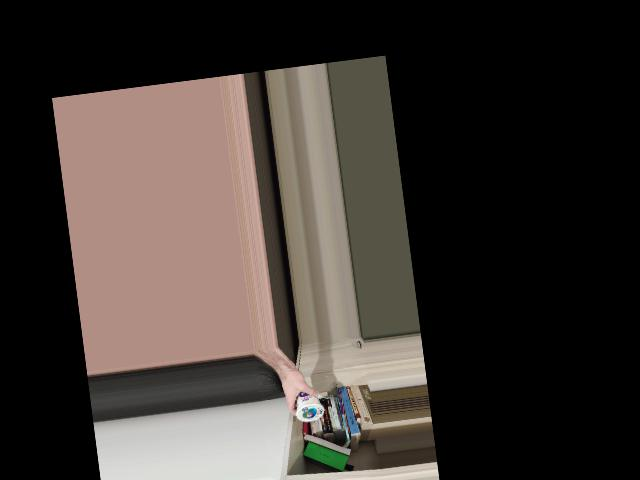cotage: (289, 385, 326, 425)
